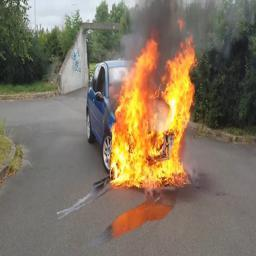fire: (110, 34, 198, 183)
